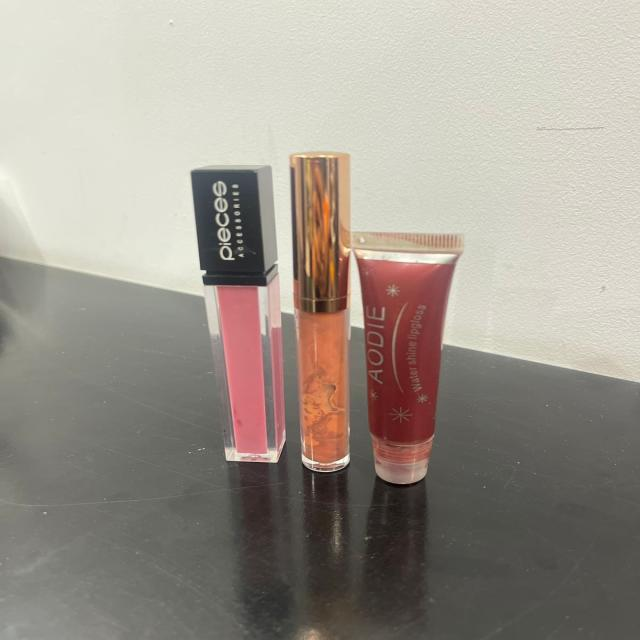lip balm: (341, 219, 477, 496)
lip gloss: (177, 153, 296, 475), (284, 140, 360, 478)
